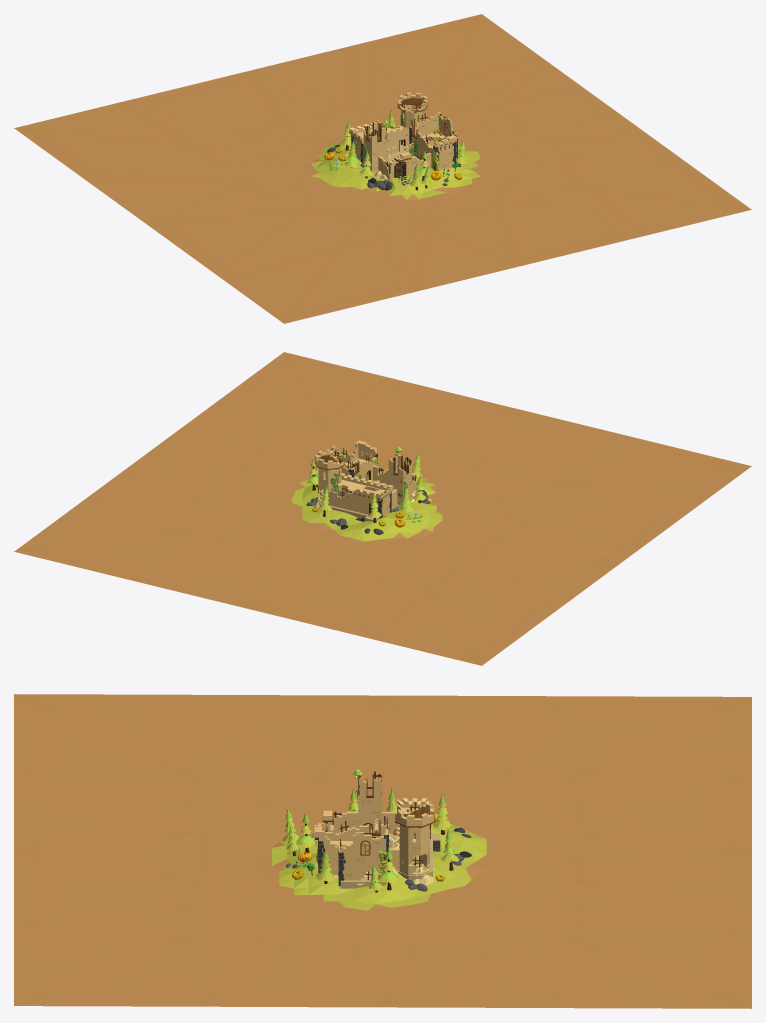
The model's file is castle.glb.
3 renders of one model, top to bottom at view 1: azimuth 30°, elevation 25°; view 2: azimuth 150°, elevation 25°; view 3: azimuth 270°, elevation 25°, orthographic. The views are drawn at different scales.
Parts seen in each view (by area): view 1: Object_3, Object_6, Object_5, Object_8, Object_10, Object_13, Object_9; view 2: Object_3, Object_6, Object_8, Object_5, Object_13, Object_11, Object_10; view 3: Object_3, Object_6, Object_8, Object_5, Object_10, Object_11, Object_13, Object_9.
Part boxes in pixels (x1,y1,x2,y2): Object_3: (14, 14, 751, 323); Object_6: (351, 112, 458, 178); Object_5: (327, 98, 455, 190); Object_8: (349, 92, 456, 173); Object_10: (340, 120, 431, 190); Object_13: (363, 120, 436, 172); Object_9: (326, 111, 467, 179); Object_3: (14, 352, 751, 665); Object_6: (314, 440, 414, 518); Object_8: (314, 449, 412, 521); Object_5: (317, 448, 429, 534); Object_13: (388, 453, 411, 506); Object_11: (307, 458, 413, 516); Object_10: (368, 452, 426, 522); Object_3: (14, 694, 751, 1008); Object_6: (314, 769, 433, 884); Object_8: (315, 798, 440, 888); Object_5: (286, 771, 471, 880); Object_10: (282, 788, 452, 856); Object_11: (307, 787, 459, 892); Object_13: (358, 777, 396, 835); Object_9: (296, 797, 429, 886).
Size of the model in its own units: 82.04 by 10.26 by 82.04.
Materials: 1 (1 with a texture image).
